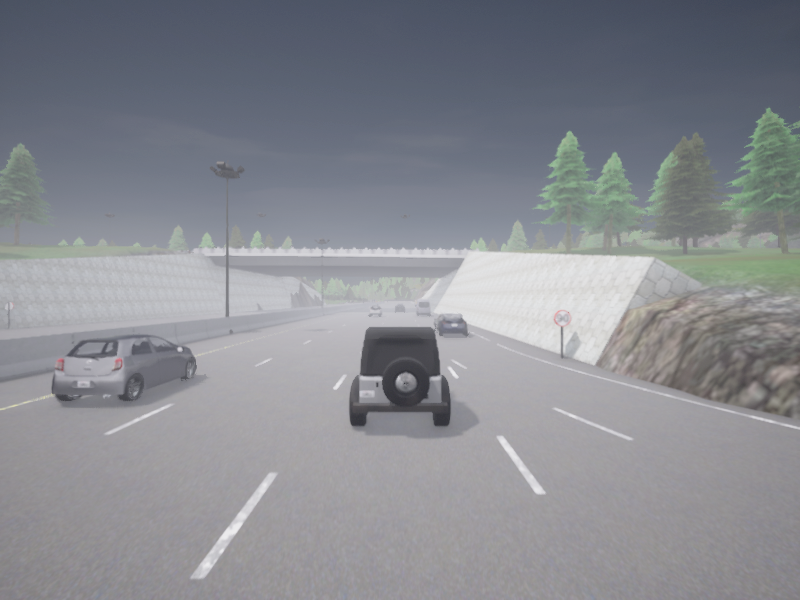vehicle: (349, 326, 450, 425), (52, 334, 195, 402), (434, 313, 467, 335), (415, 299, 429, 315), (369, 305, 382, 316), (395, 304, 404, 311)
